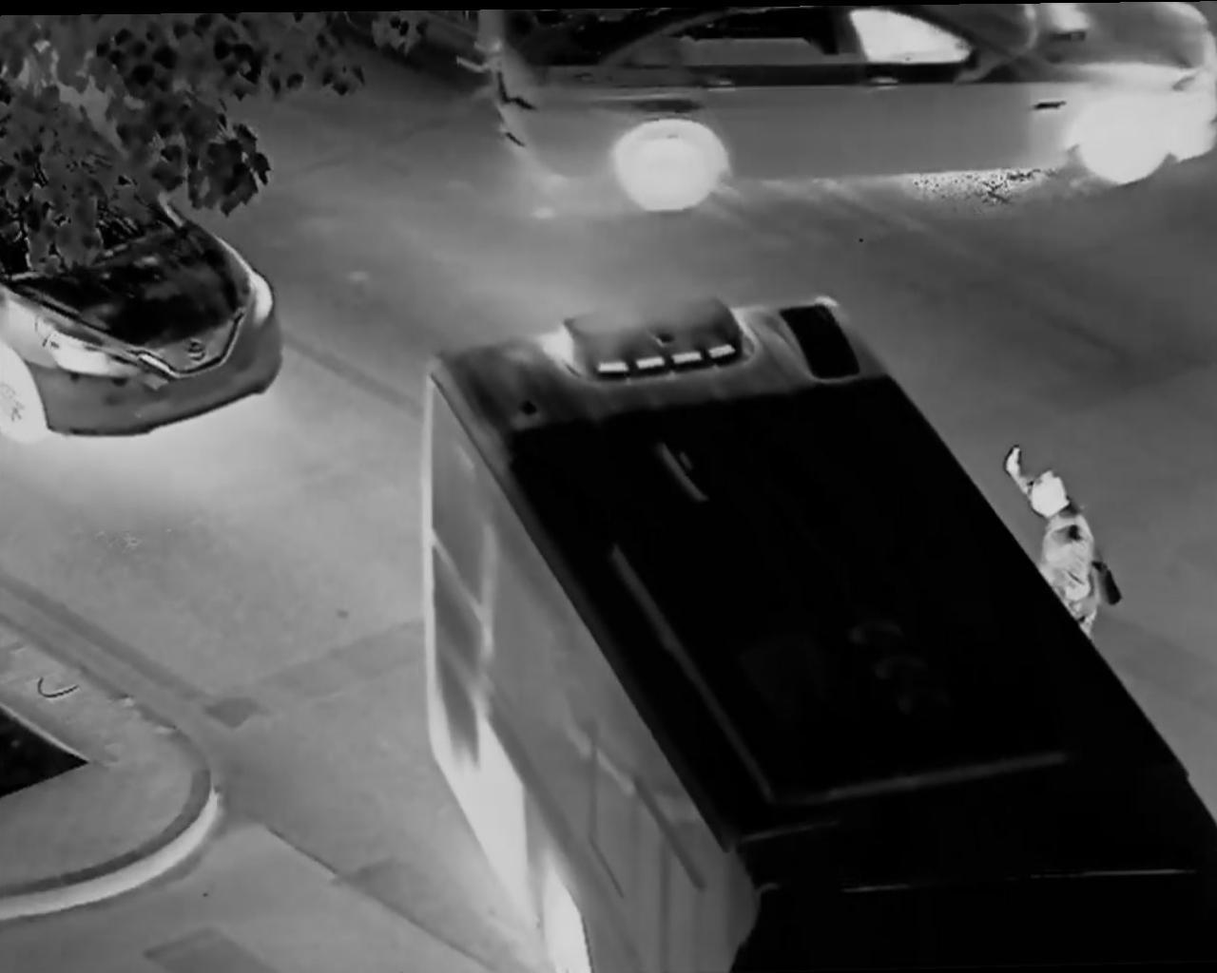person: (1004, 444, 1126, 654)
